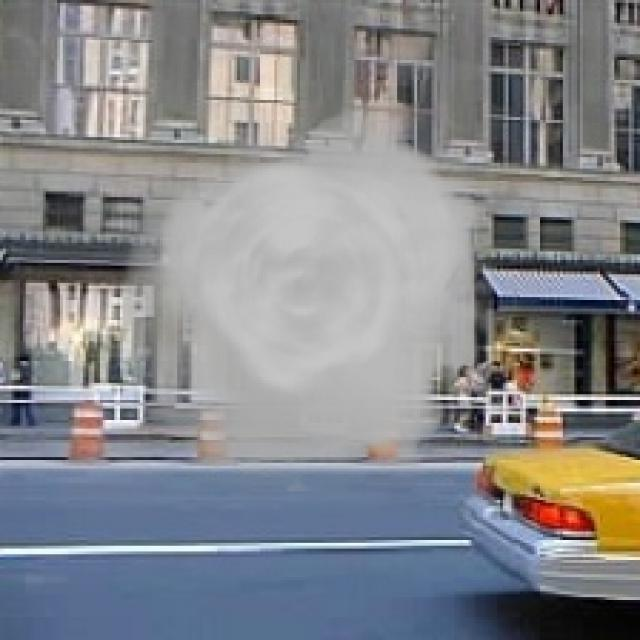smoke: (120, 94, 494, 492)
